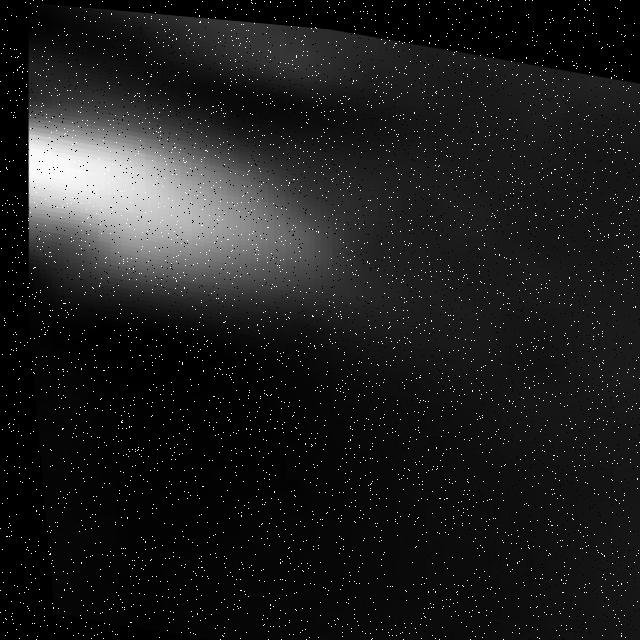person: (8, 78, 397, 346)
